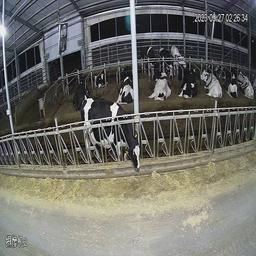cow: (78, 97, 147, 189), (176, 62, 203, 103), (114, 59, 134, 106), (201, 66, 227, 102), (147, 71, 175, 104), (222, 65, 244, 98), (169, 34, 188, 67), (73, 73, 90, 108), (140, 41, 157, 74), (158, 41, 174, 71), (93, 62, 109, 91), (242, 73, 254, 101)
